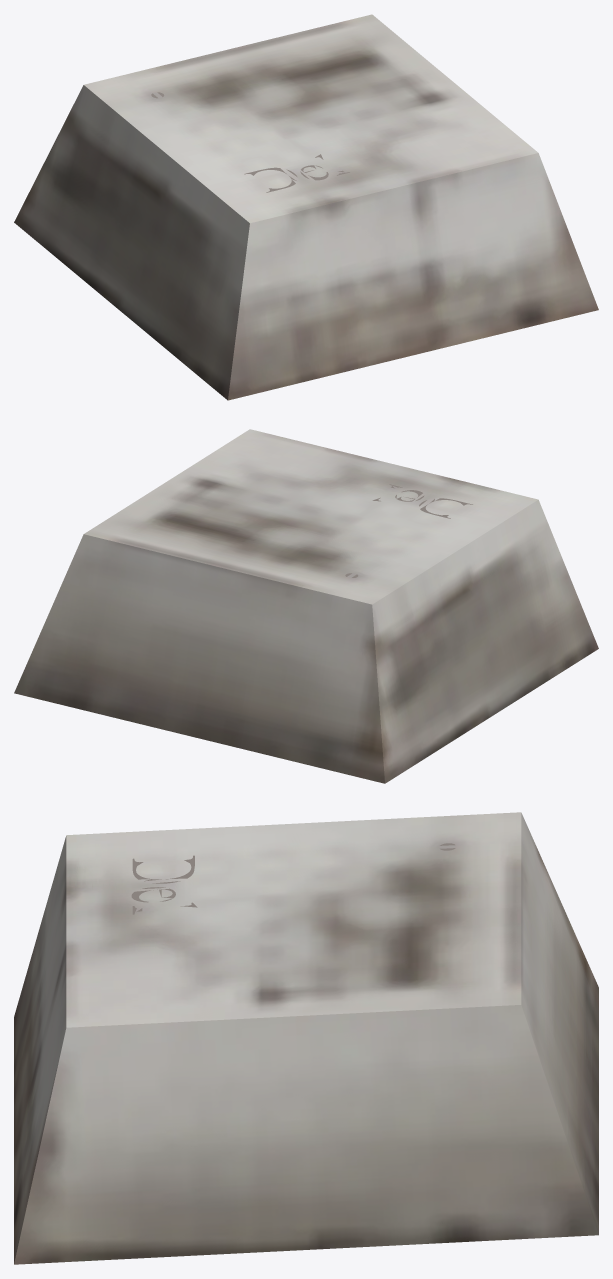
File: link_95__key-101.glb
3 renders of one model, top to bottom at view 1: azimuth 30°, elevation 25°; view 2: azimuth 150°, elevation 25°; view 3: azimuth 270°, elevation 25°, orthographic. The views are drawn at different scales.
Parts seen in each view (by area): view 1: geometry_0; view 2: geometry_0; view 3: geometry_0.
Boxes of the visible parts, left/top/right/bottom form: geometry_0: left=14, top=14, right=598, bottom=400; geometry_0: left=14, top=429, right=598, bottom=783; geometry_0: left=14, top=812, right=598, bottom=1264.
Bounding box in the file's own units: 0.0719 × 0.0315 × 0.0718.
1 material, 1 textured.
